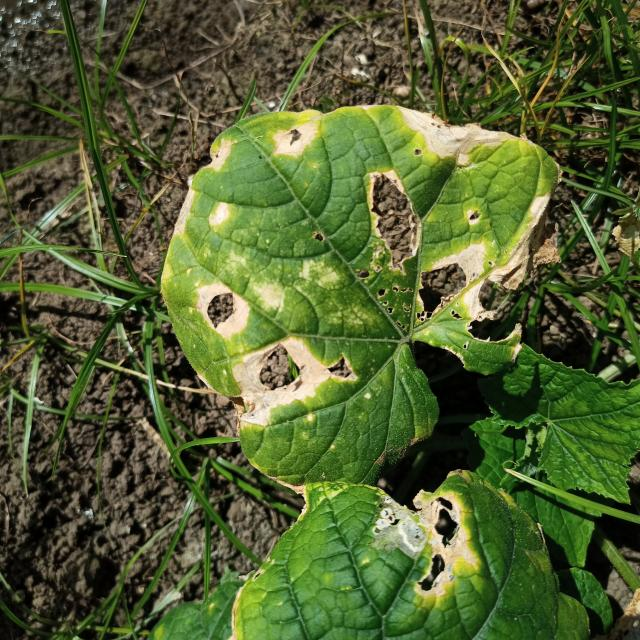disease_cucumber: (170, 111, 550, 441), (366, 493, 498, 597)
